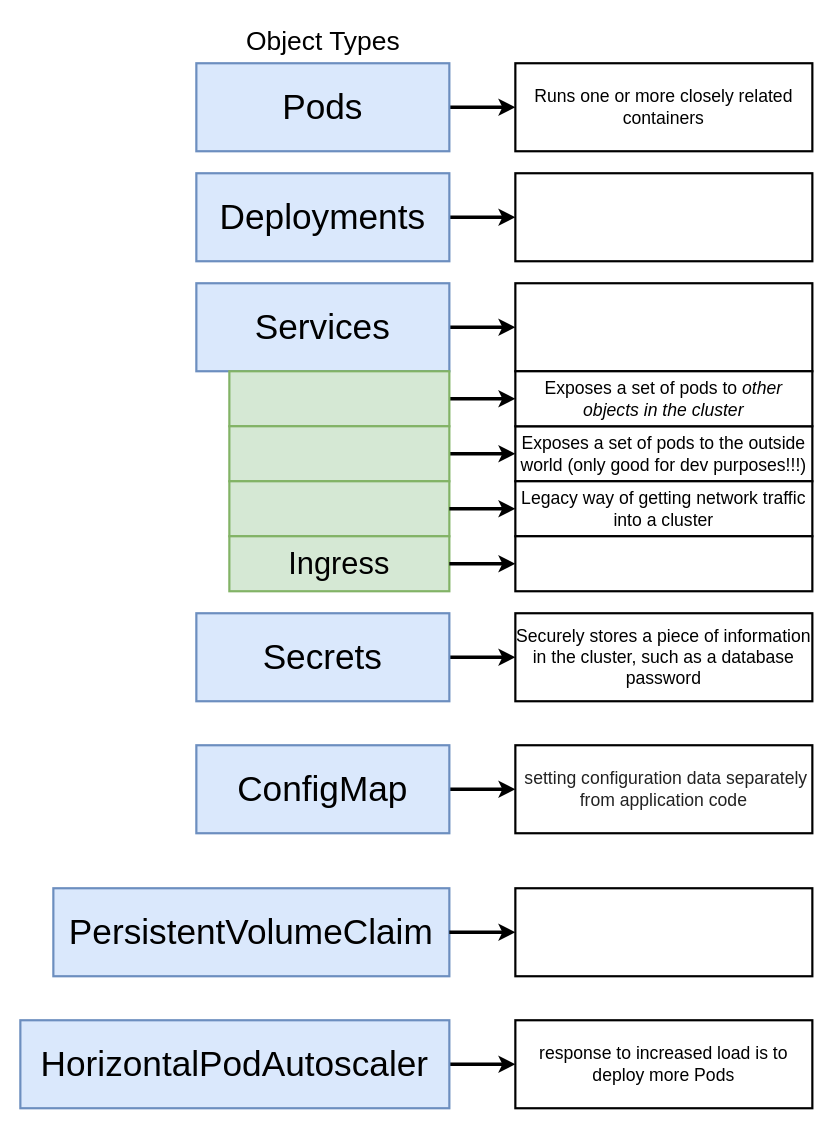
Image size: 832x1128. Some labels were removed from this diagram. The shapes that lost their labels are listed below. From the top down, each one's box as (x1, y1, x2, y2) in pixels, then its label:
(514, 172, 813, 262): Administers and manages a set of pods
(514, 282, 813, 372): Sets up networking in a Kubernetes Cluster
(228, 370, 450, 427): ClusterIP
(228, 425, 450, 482): NodePort
(228, 480, 450, 537): LoadBalancer
(514, 535, 813, 592): Exposes a set of services to the outside world
(514, 887, 813, 977): (PVC) is a request for storage by a user
